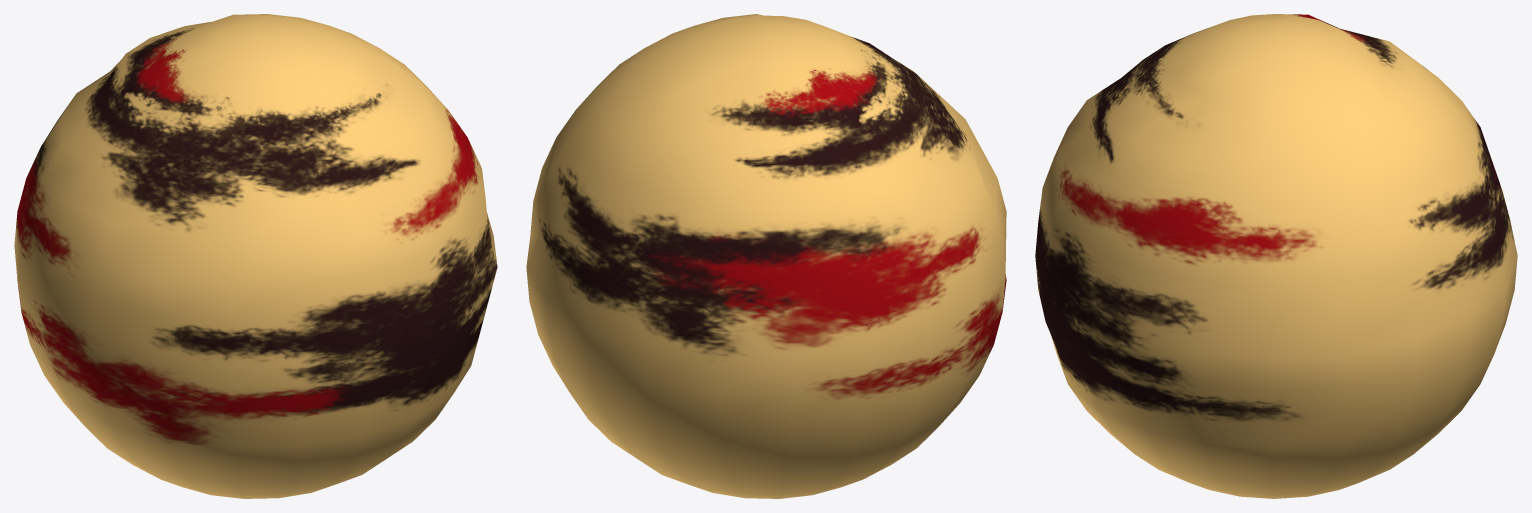
The model's file is bahamut_blast.obj.
The picture shows the model from 3 angles, left to right: view 1: azimuth 30°, elevation 25°; view 2: azimuth 150°, elevation 25°; view 3: azimuth 270°, elevation 25°; orthographic projection.
Size of the model in its own units: 2 by 2 by 1.98.
1 material, 1 textured.
